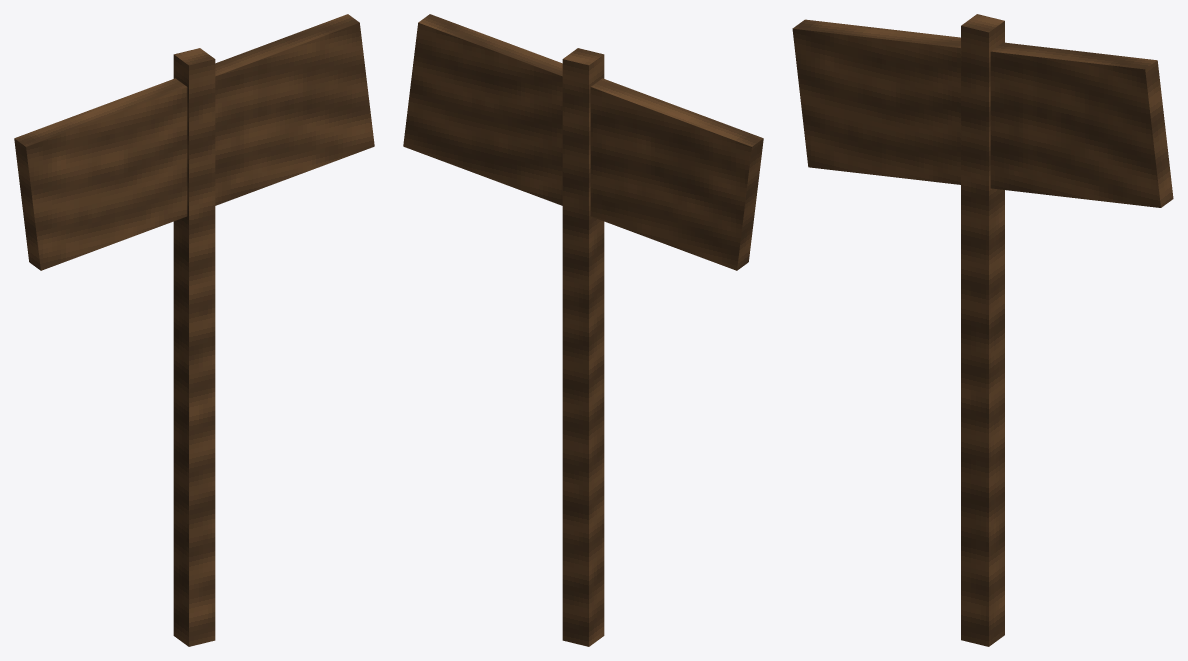
The model's file is tabela.gltf.
3 views of the same model, side by side, from view 1: azimuth 30°, elevation 25°; view 2: azimuth 150°, elevation 25°; view 3: azimuth 330°, elevation 25° (orthographic). The views are drawn at different scales.
Parts seen in each view (by area): view 1: tabela; view 2: tabela; view 3: tabela.
Part boxes in pixels (left/top/right/bottom): tabela: left=14, top=14, right=374, bottom=646; tabela: left=403, top=14, right=763, bottom=646; tabela: left=792, top=14, right=1173, bottom=646.
Size of the model in its own units: 1.19 by 1.9 by 0.09.
Materials: 1 (1 with a texture image).
